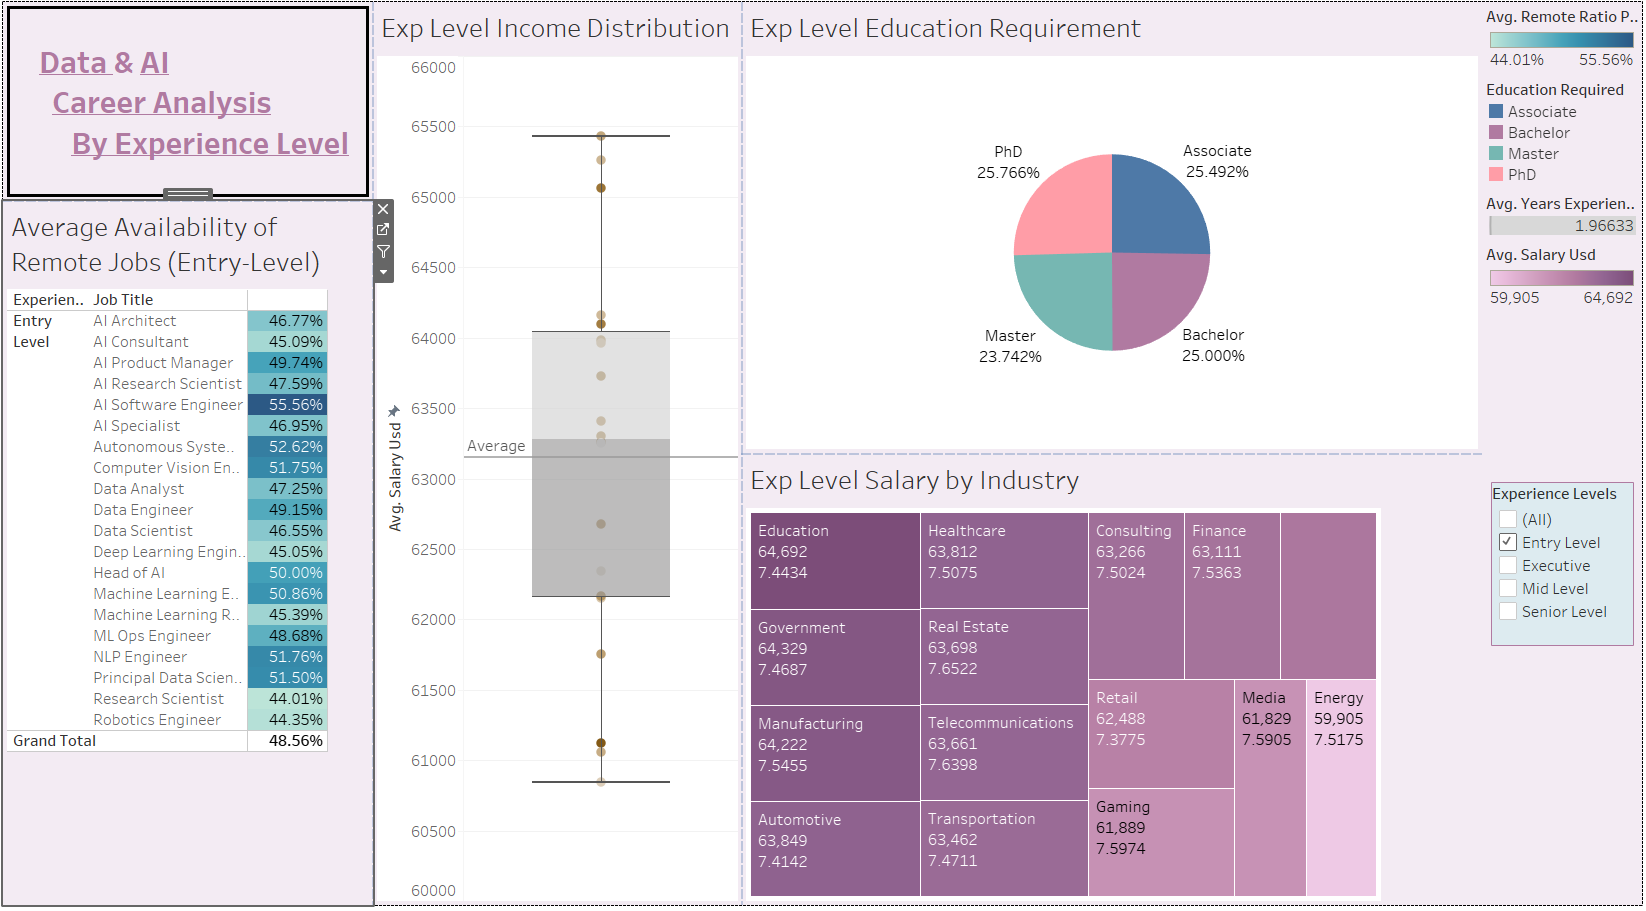

This screenshot's page, from the dashboard's own definition file:
{"tool":"tableau","page":{"name":"Exp Level Dashboard","canvas":[1000,1000],"units":"permille","ordinal":1},"visuals":[{"type":"text","box":[5.4,9.8,223.1,215.6]},{"type":"worksheet","title":"Exp Level Income Distribution","mark":"Circle","rows":["salary_usd"],"box":[228.5,9.8,223.2,980.4]},{"type":"worksheet","title":"Exp Level Education Requirement","mark":"Pie","box":[451.7,9.8,446.3,490.2]},{"type":"legend","title":"Exp Level Remote vs. In Person","param":"[federated.11jynth0ef9nxn10t1pge09lvam3].[avg:Calculation_205476756032516096:qk]","box":[898,9.8,96.6,79.3]},{"type":"legend","title":"Exp Level Education Requirement","param":"[federated.11jynth0ef9nxn10t1pge09lvam3].[none:education_required:nk]","box":[898,89,96.6,123.8]},{"type":"legend","title":"Exp Level Education Requirement","param":"[federated.11jynth0ef9nxn10t1pge09lvam3].[avg:years_experience:qk]","box":[898,212.8,96.6,55.4]},{"type":"worksheet","title":"Exp Level Remote vs. In Person","mark":"Square","rows":["Calculation_205476756033142785","job_title"],"box":[5.4,225.4,223.1,764.9]},{"type":"legend","title":"Exp Level Salary by Industry","param":"[federated.11jynth0ef9nxn10t1pge09lvam3].[avg:salary_usd:qk]","box":[898,268.2,96.6,79.3]},{"type":"worksheet","title":"Exp Level Salary by Industry","mark":"Automatic","box":[451.7,500,446.3,490.2]},{"type":"filter","title":"Exp Level Remote vs. In Person","param":"[federated.11jynth0ef9nxn10t1pge09lvam3].[none:Calculation_205476756033142785:nk","box":[903.4,530.9,86.3,178.1]}]}

Visuals, with their boxes on the dashboard's canvas, which has no fixed pixel size, in thousandths of its width and height (x1, y1, x2, y2). These are canvas units, not pixel positions in the 1646x911 screenshot, which may show the page scaled, cropped or inside an application window:
text: 5:10:228:225
"Exp Level Income Distribution" worksheet (Circle marks): 228:10:452:990
"Exp Level Education Requirement" worksheet (Pie marks): 452:10:898:500
"Exp Level Remote vs. In Person" legend: 898:10:995:89
"Exp Level Education Requirement" legend: 898:89:995:213
"Exp Level Education Requirement" legend: 898:213:995:268
"Exp Level Remote vs. In Person" worksheet (Square marks): 5:225:228:990
"Exp Level Salary by Industry" legend: 898:268:995:348
"Exp Level Salary by Industry" worksheet: 452:500:898:990
"Exp Level Remote vs. In Person" filter: 903:531:990:709
